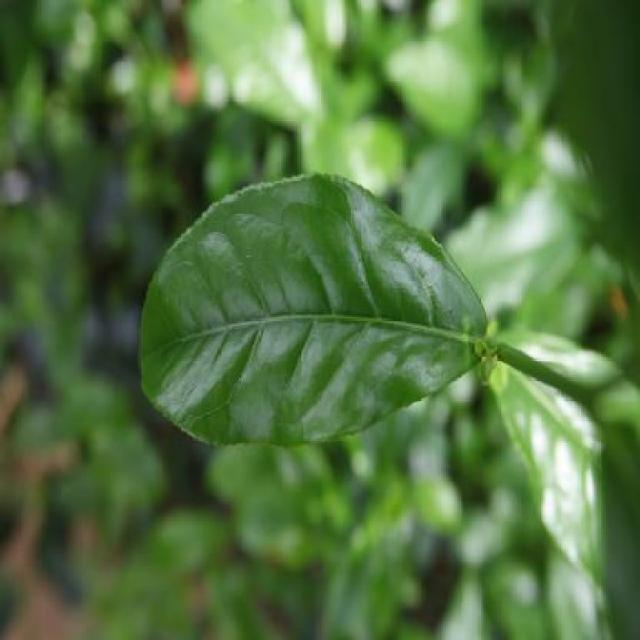Tea leaf: (118, 158, 510, 451)
